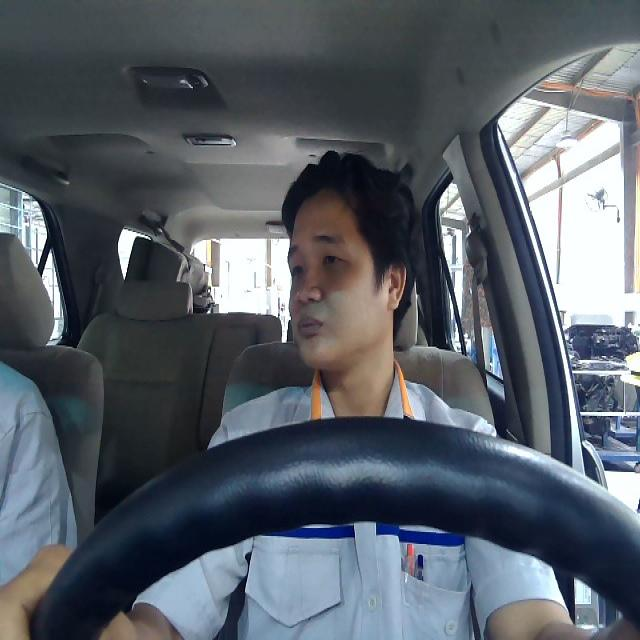seeing_left: (286, 184, 405, 367)
